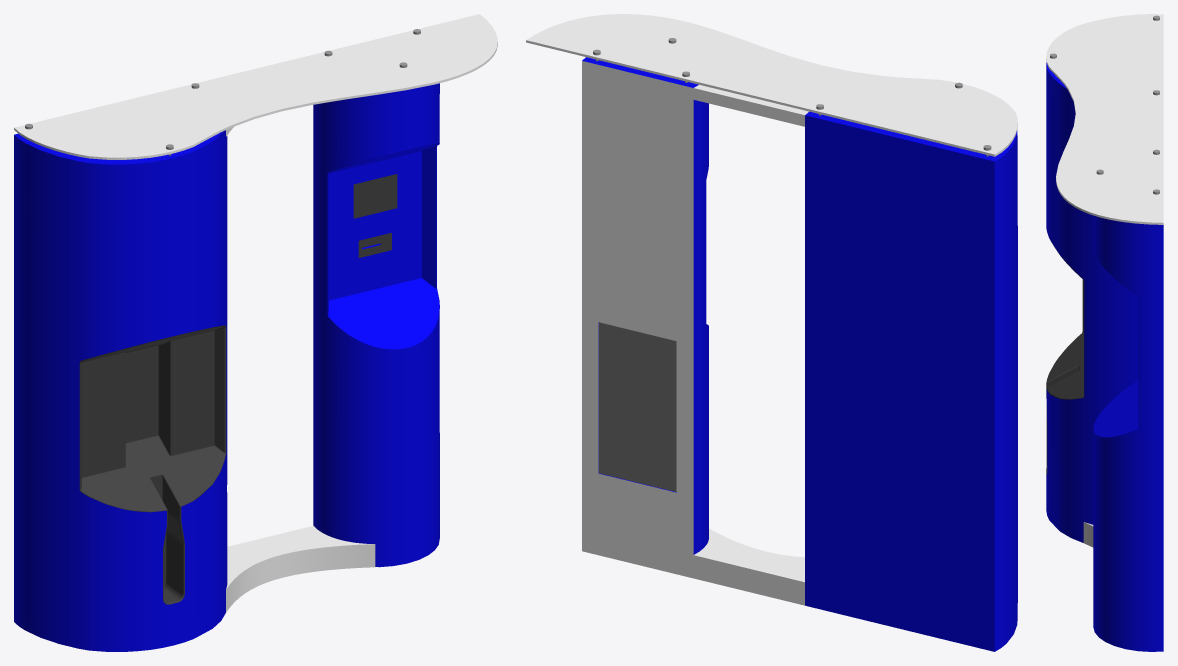
File: Hydrogen refueling v6.fbx
The picture shows the model from 3 angles, left to right: view 1: azimuth 30°, elevation 25°; view 2: azimuth 150°, elevation 25°; view 3: azimuth 270°, elevation 25°; orthographic projection. The views are drawn at different scales.
Visible parts, largest first — view 1: Body15, Body13, Body21, Body16; view 2: Body15, Body13, Body21, Body14, Body16, Body17; view 3: Body13, Body21, Body15, Body16.
Boxes of the visible parts, x1,y1,x2,y2 form: Body15: (14, 130, 227, 651); Body13: (313, 83, 439, 567); Body21: (14, 14, 497, 159); Body16: (226, 526, 375, 612); Body15: (805, 111, 1017, 651); Body13: (582, 57, 708, 578); Body21: (526, 14, 1017, 156); Body14: (599, 322, 676, 491); Body16: (693, 528, 804, 605); Body17: (693, 84, 808, 126); Body13: (1093, 215, 1163, 651); Body21: (1046, 14, 1163, 224); Body15: (1046, 62, 1138, 542); Body16: (1083, 522, 1093, 547).
Bounding box in the file's own units: 2104 × 2140 × 500.
